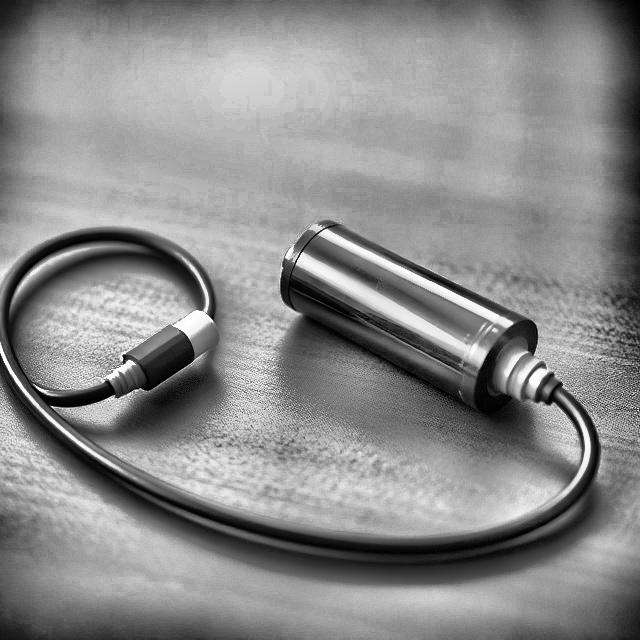Battery: (281, 216, 543, 404)
Cable: (0, 222, 597, 566)
